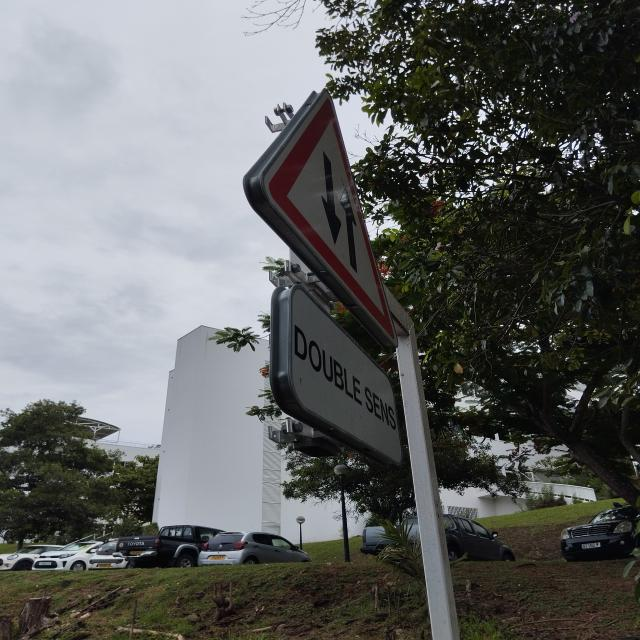Double-Sens: (266, 93, 397, 347)
